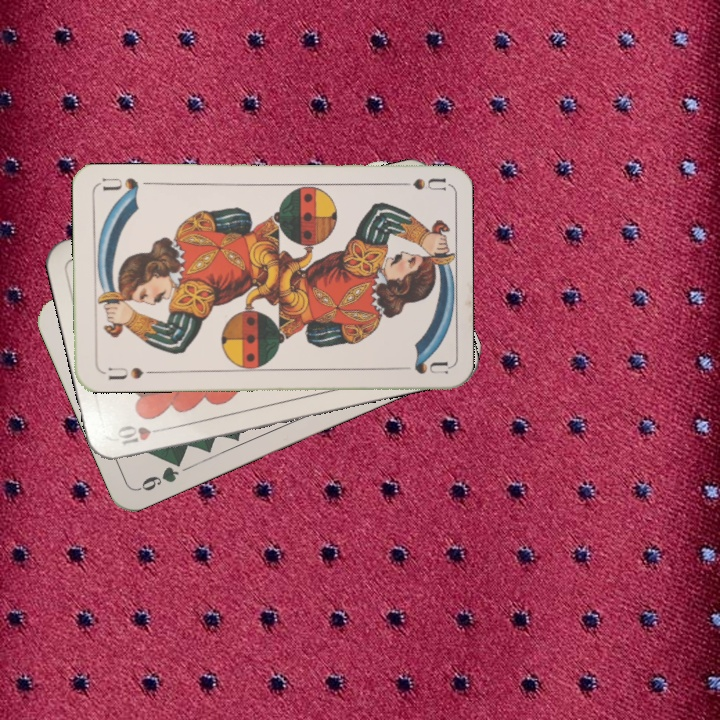G9: (134, 454, 186, 494)
H10: (113, 422, 170, 448)
SU: (387, 174, 446, 193), (104, 364, 157, 383)
